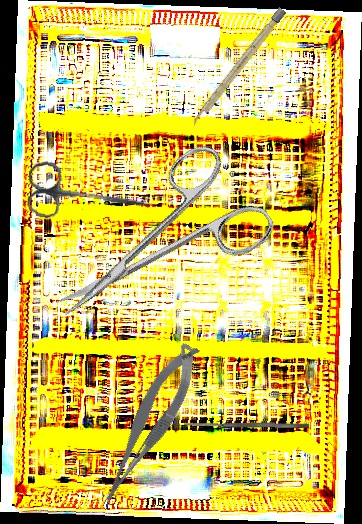Iris Scissors: (27, 133, 280, 355), (24, 159, 158, 232)
Micro Scissor: (79, 338, 216, 511)
Scalpel Handle: (189, 7, 287, 128)
Spatula Surgical: (183, 420, 310, 430)
